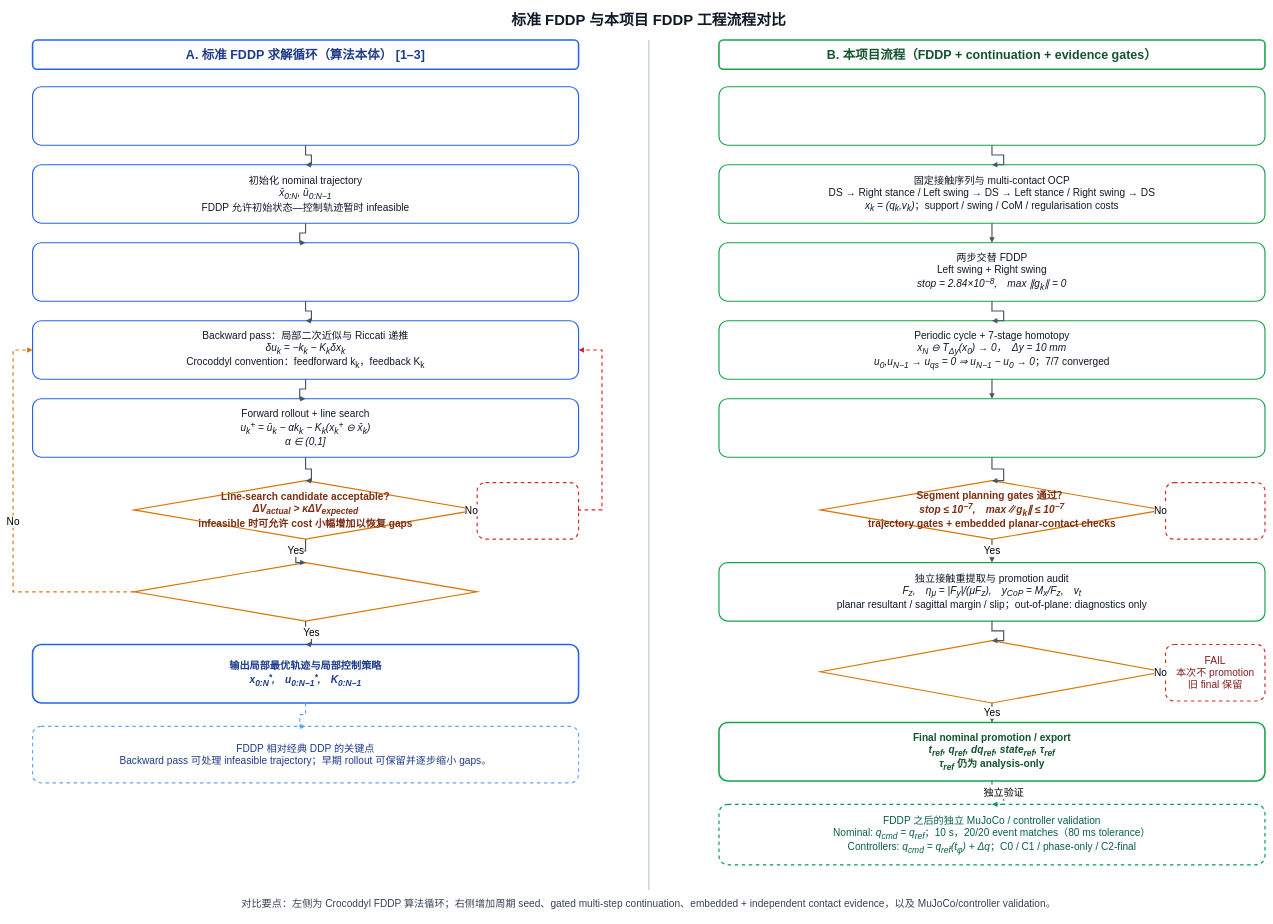
This 1273x924 diagram has some shape labels left out. The shapes that lost their labels are listed below. From the top down, each one's centre as x and y in pixels, then its label:
the point at 305,116: 有限时域非线性 OCP min Σ ℓ k (x k ,u k ) + ℓ N (x N ) x k+1 = f k (x k ,u k )
the point at 991,116: 模型与执行器边界 URDF → Pinocchio → Crocoddyl n q = 13, n v = 12, τ ref : analysis only
the point at 305,272: 计算 cost 与 shooting gaps J(x̄,ū), g k+1 = f k (x̄ k ,ū k ) ⊖ x̄ k+1
the point at 991,428: 多步 continuation 2 → 4 → 6 → 10 steps Final: N = 1000, Δt = 0.01 s, T = 10 s
the point at 527,511: 拒绝候选 α ↓， λ reg ↑ 重新 backward pass
the point at 1215,511: FAIL 停止本次 ladder 无新 candidate
the point at 305,591: Solver 收敛？ feasible 且 stop < ε 项目外层 gate 另查 max∥g k ∥ ≤ ε g
the point at 992,671: Contact gates 通过？ F z > 0, η μ ≤ 0.90 margin CoP ≥ 2 mm, v t ≤ 10 −3 m/s
